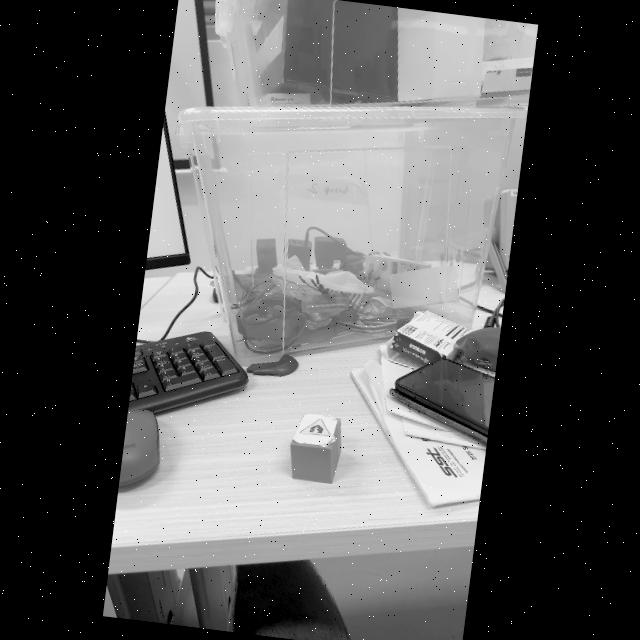Earthquake: (299, 419, 329, 435)
